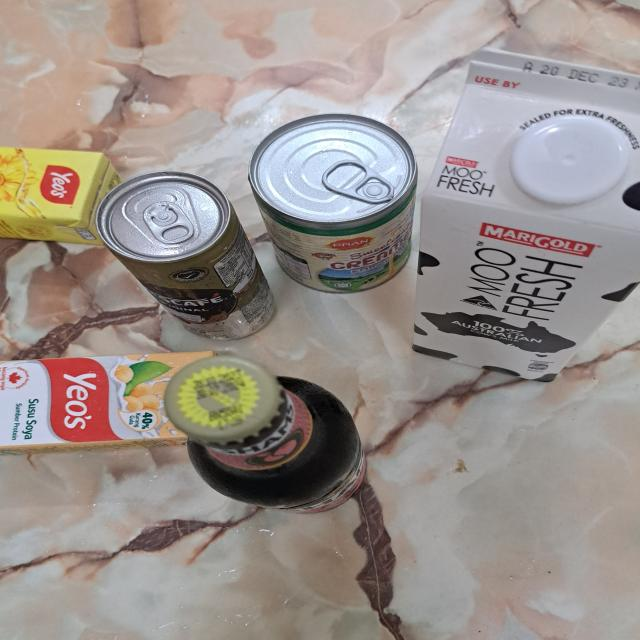can: (97, 170, 279, 343), (251, 112, 418, 294)
drink carton: (408, 44, 640, 387), (0, 348, 220, 458), (0, 144, 126, 247)
glass bottle: (165, 355, 368, 514)
pop tab: (322, 158, 396, 203), (141, 201, 195, 243)
